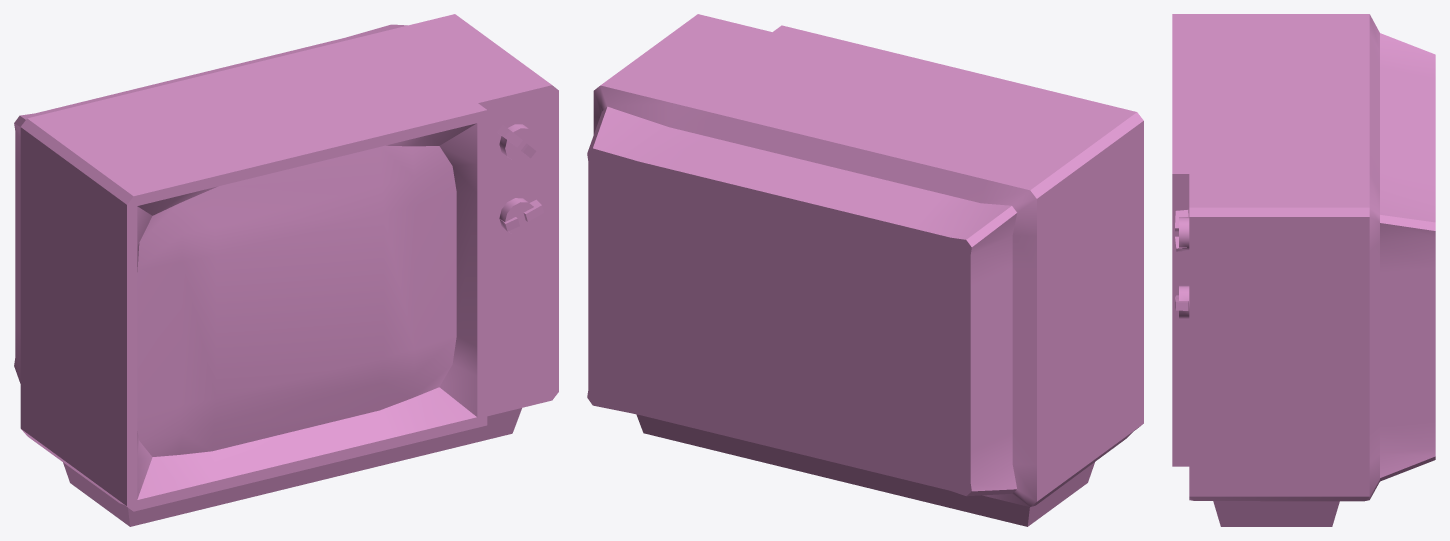
The picture shows the model from 3 angles, left to right: view 1: azimuth 30°, elevation 25°; view 2: azimuth 150°, elevation 25°; view 3: azimuth 270°, elevation 25°; orthographic projection. The views are drawn at different scales.
Parts seen in each view (by area): view 1: TV_LP, TV_Screen_LP, TVknob_LP, TVknob2_LP; view 2: TV_LP; view 3: TV_LP, TVknob2_LP, TVknob_LP.
Boxes of the visible parts, box(x1,y1,x2,y2) form: TV_LP: box(14, 14, 558, 526); TV_Screen_LP: box(137, 145, 456, 456); TVknob_LP: box(499, 198, 543, 234); TVknob2_LP: box(497, 124, 536, 161); TV_LP: box(587, 14, 1143, 526); TV_LP: box(1172, 14, 1435, 526); TVknob2_LP: box(1175, 210, 1189, 251); TVknob_LP: box(1175, 285, 1189, 319).
Bounding box in the file's own units: 78.59 × 60.5 × 43.83.
